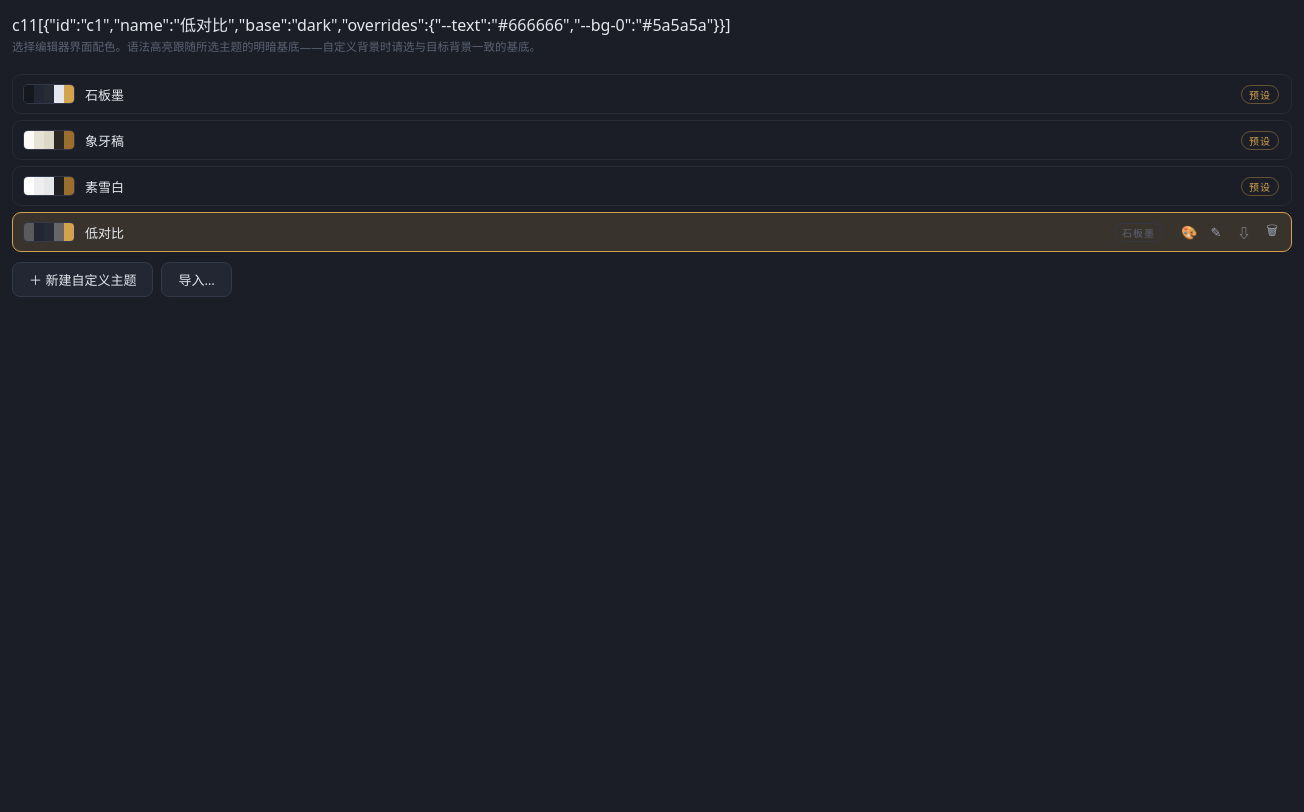
Test: AppearanceSettings › 低对比 override → 显示非阻塞对比度提示
The image size is (1304, 812).
Click the button named "编辑 低对比": coordinates (1188, 232) [1175,219,1201,245]
(page scrolled)
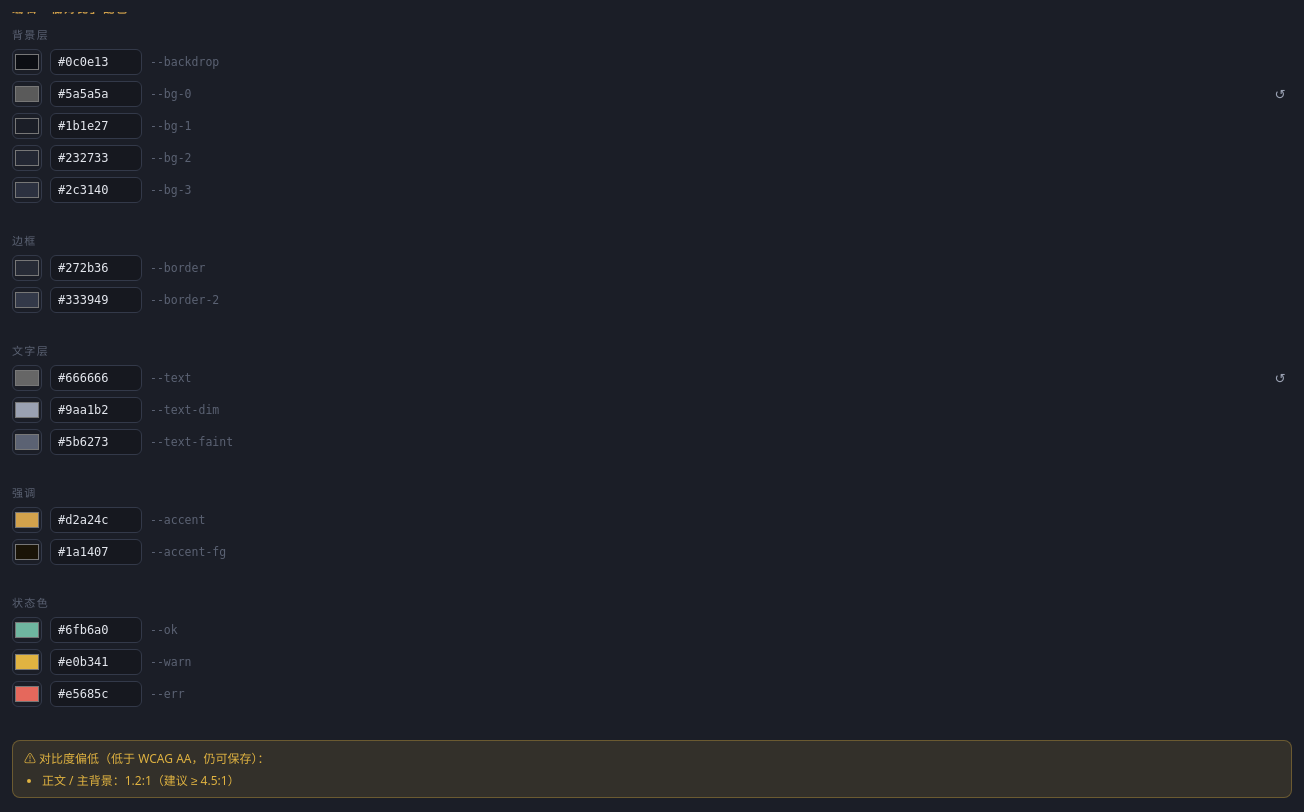
Expected: the text "⚠ 对比度偏低（低于 WCAG AA，仍可保存）： 正文 / 主背景：1.2:1（建议 ≥ 4.5:1）" is shown, [12,740,1292,798]
Expected: the list item "正文 / 主背景：1.2:1（建议 ≥ 4.5:1）" is shown, [42,772,240,789]
